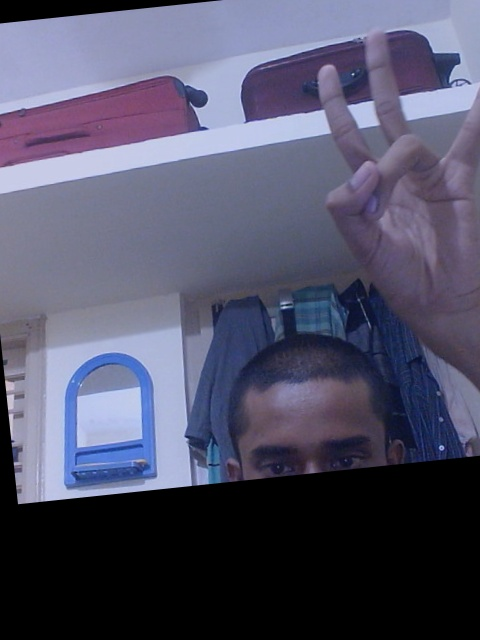hand: (315, 28, 480, 335)
